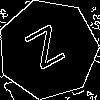Z: (23, 24, 73, 79)
